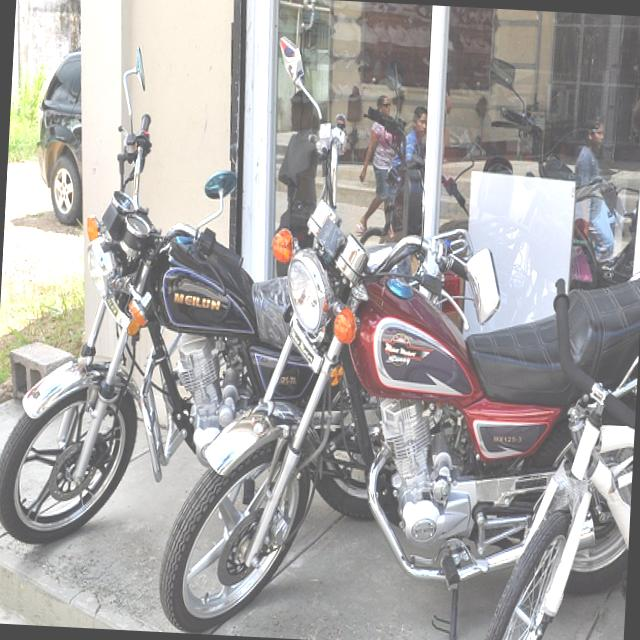Vehicle: (157, 31, 640, 640), (0, 43, 305, 514), (33, 49, 90, 225)
